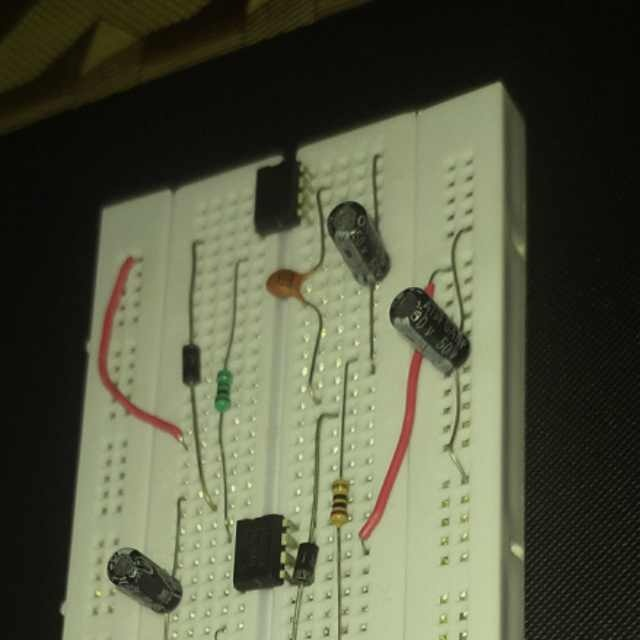capacitor: (389, 286, 471, 376), (325, 200, 391, 287), (105, 547, 182, 614), (266, 266, 308, 302)
resistor: (330, 476, 348, 528), (213, 366, 232, 412)
